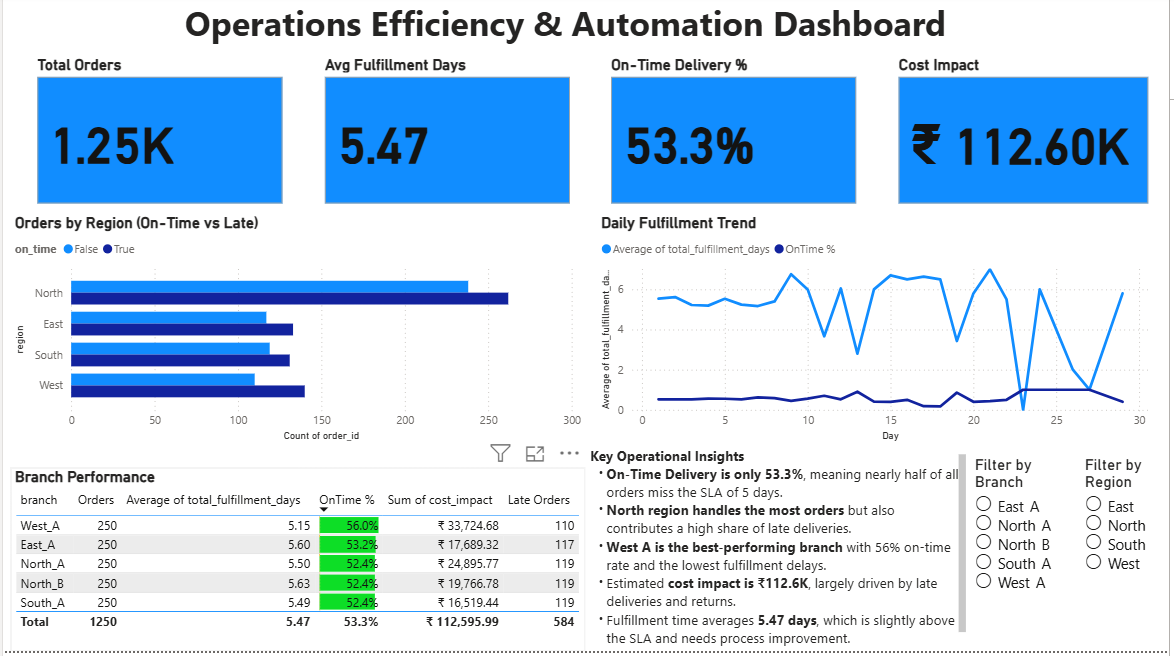

The page's visual inventory and layout, read from the dashboard file:
{"tool":"powerbi","page":{"name":"Page 1","canvas":[1280,720],"ordinal":0},"visuals":[{"type":"cardVisual","title":"Total Orders","fields":{"Data":["CountNonNull(final_cleaned.order_id)"]},"box":[32.9,65.9,279.9,168.8],"z":0},{"type":"cardVisual","title":"On-Time Delivery %","fields":{"Data":["final_cleaned.OnTime %"]},"box":[663.2,65.9,279.9,168.8],"z":1000},{"type":"cardVisual","title":"Avg Fulfillment Days","fields":{"Data":["Avg(final_cleaned.total_fulfillment_days)"]},"box":[348.1,65.9,279.9,168.8],"z":2000},{"type":"cardVisual","title":"Cost Impact","fields":{"Data":["Sum(final_cleaned.cost_impact)"]},"box":[978.4,65.9,284,168.8],"z":3000},{"type":"clusteredBarChart","title":"Orders by Region (On-Time vs Late)","fields":{"Category":["final_cleaned.region"],"Y":["CountNonNull(final_cleaned.order_id)"],"Series":["final_cleaned.on_time"]},"box":[8.2,240.1,631.2,255.2],"z":4000},{"type":"lineChart","title":"Daily Fulfillment Trend","fields":{"Category":["final_cleaned.order_date.Variation.Date Hierarchy.Day"],"Y":["Avg(final_cleaned.total_fulfillment_days)","final_cleaned.OnTime %"]},"box":[651.8,240.1,610.6,255.2],"z":5000},{"type":"tableEx","title":"Branch Performance","fields":{"Values":["final_cleaned.branch","final_cleaned.Orders","Avg(final_cleaned.total_fulfillment_days)","final_cleaned.OnTime %","Sum(final_cleaned.cost_impact)","final_cleaned.Late Orders"]},"box":[8.2,518.7,631.2,201.7],"z":6000},{"type":"listSlicer","title":"Filter by Region","fields":{"Values":["final_cleaned.region"]},"box":[1182.9,505,97.4,215.4],"z":7000},{"type":"listSlicer","title":"Filter by Branch","fields":{"Values":["final_cleaned.branch"]},"box":[1062.1,505,113.9,215.4],"z":8000},{"type":"textbox","box":[172.9,0,889.2,65.9],"z":9000},{"type":"textbox","box":[639.5,495.4,422.6,225],"z":10000}]}

Visuals, with their boxes in screenshot pixels (x1, y1, x2, y2), scaled from the page's 1280x720 canvas onto the 1174x656 screenshot:
"Total Orders" cardVisual: box(30, 60, 287, 214)
"On-Time Delivery %" cardVisual: box(608, 60, 865, 214)
"Avg Fulfillment Days" cardVisual: box(319, 60, 576, 214)
"Cost Impact" cardVisual: box(897, 60, 1158, 214)
"Orders by Region (On-Time vs Late)" clusteredBarChart: box(8, 219, 586, 451)
"Daily Fulfillment Trend" lineChart: box(598, 219, 1158, 451)
"Branch Performance" tableEx: box(8, 473, 586, 655)
"Filter by Region" listSlicer: box(1085, 460, 1173, 655)
"Filter by Branch" listSlicer: box(974, 460, 1079, 655)
textbox: box(159, 0, 974, 60)
textbox: box(587, 451, 974, 655)
